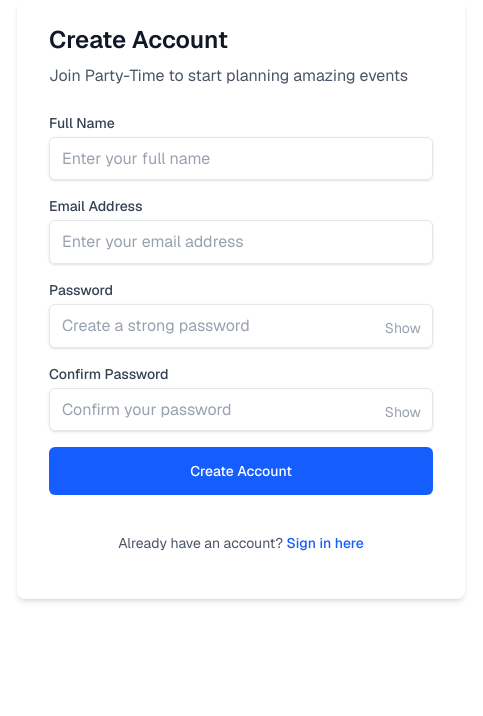
Test: RegisterForm › shows validation error for password without lowercase
Step 1. Type "PASSWORD123!" into the password field labelled "Password" → (241, 326), box x1=49 y1=304 x2=433 y2=348
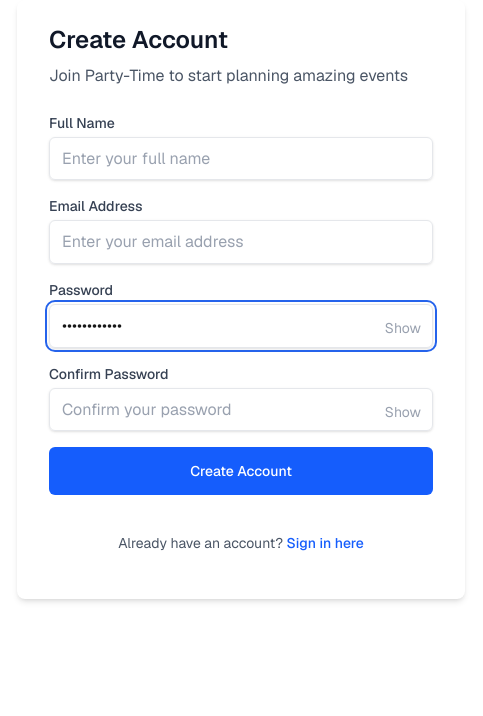
Step 2. Click the button "Create Account" → (241, 471), box x1=49 y1=447 x2=433 y2=495
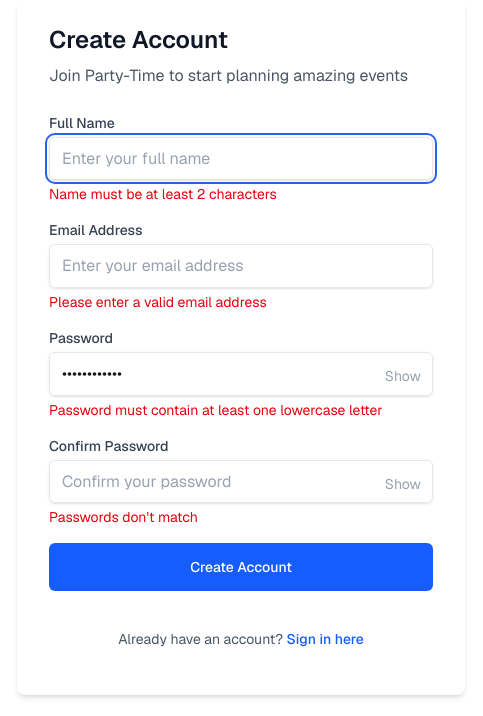
Expected: the text "Password must contain at least one lowercase letter" is shown, x1=49 y1=400 x2=433 y2=420
